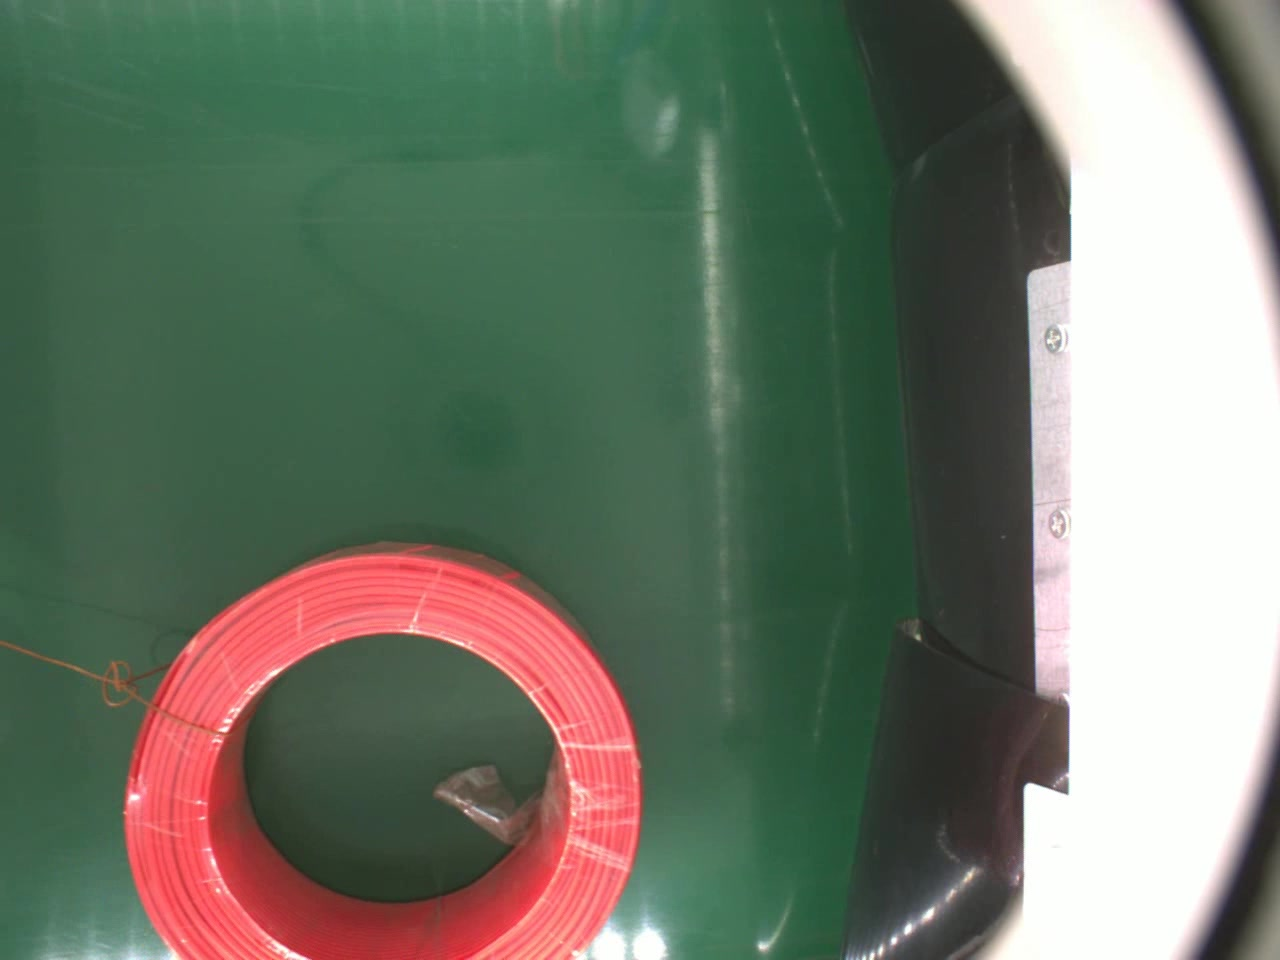red: (121, 535, 644, 960)
